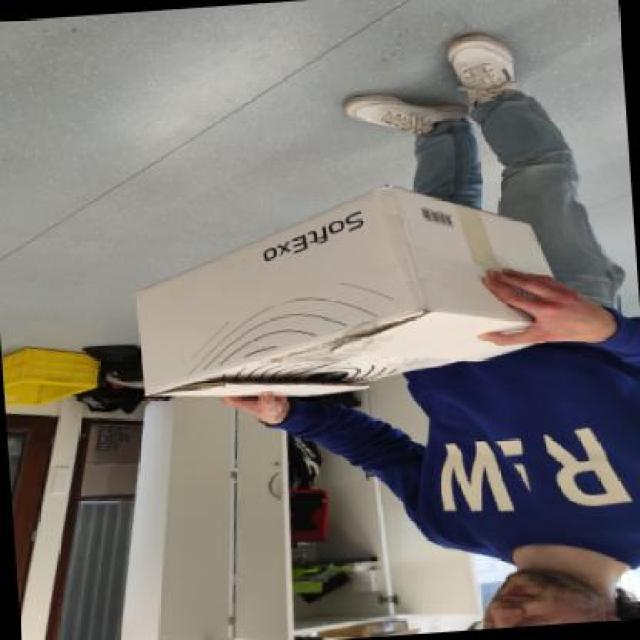box: (120, 174, 586, 414), (3, 342, 105, 422)
